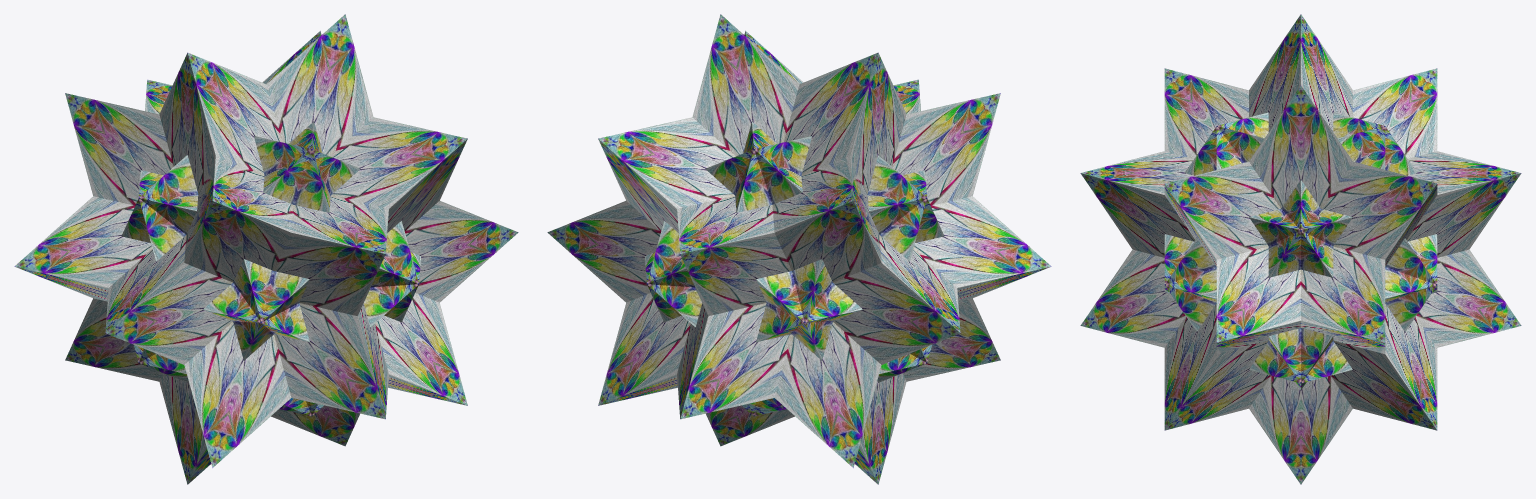
The model's file is GreatRhombicTriacontahedron3.obj.
3 renders of one model, left to right at view 1: azimuth 30°, elevation 25°; view 2: azimuth 150°, elevation 25°; view 3: azimuth 270°, elevation 25°, orthographic. The views are drawn at different scales.
Bounding box in the file's own units: 1.12 × 1.12 × 1.12.
Materials: 1 (1 with a texture image).
